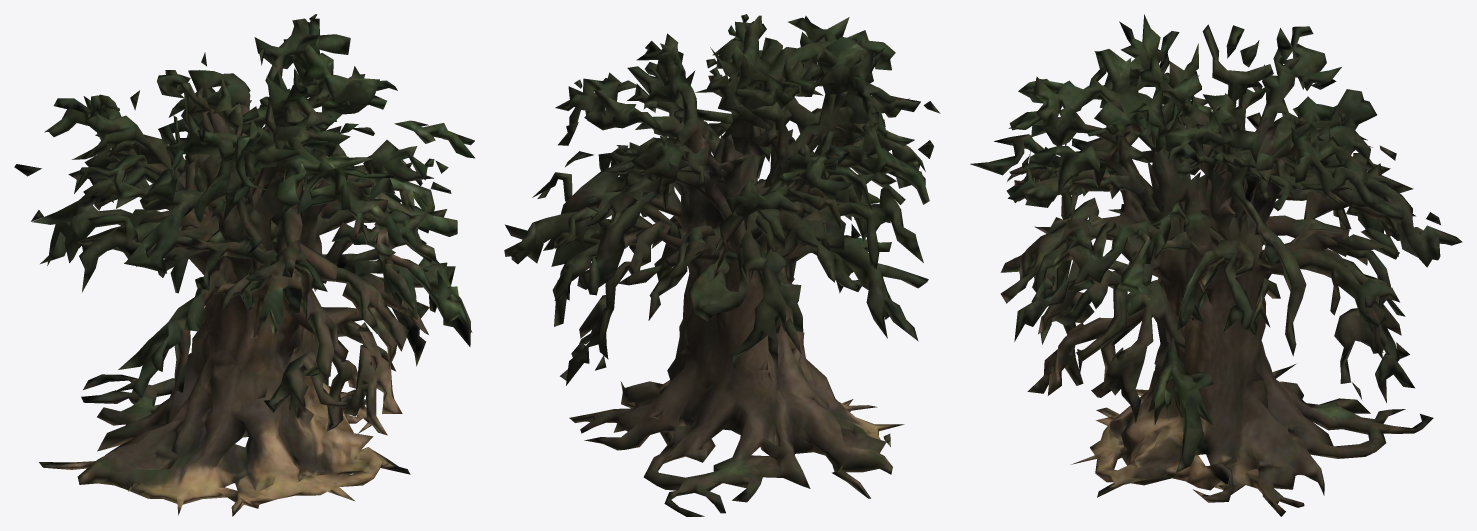
Rendered from Giant_Tree__0108063118_texture.fbx.
3 renders of one model, left to right at view 1: azimuth 30°, elevation 25°; view 2: azimuth 150°, elevation 25°; view 3: azimuth 270°, elevation 25°, orthographic. The views are drawn at different scales.
Visible parts, largest first — view 1: Mesh1; view 2: Mesh1; view 3: Mesh1.
Part boxes in pixels (x1,y1,x2,y2): Mesh1: [14, 14, 474, 516]; Mesh1: [504, 14, 940, 516]; Mesh1: [970, 14, 1462, 516].
Size of the model in its own units: 177 by 180 by 200.
1 material, 1 textured.
